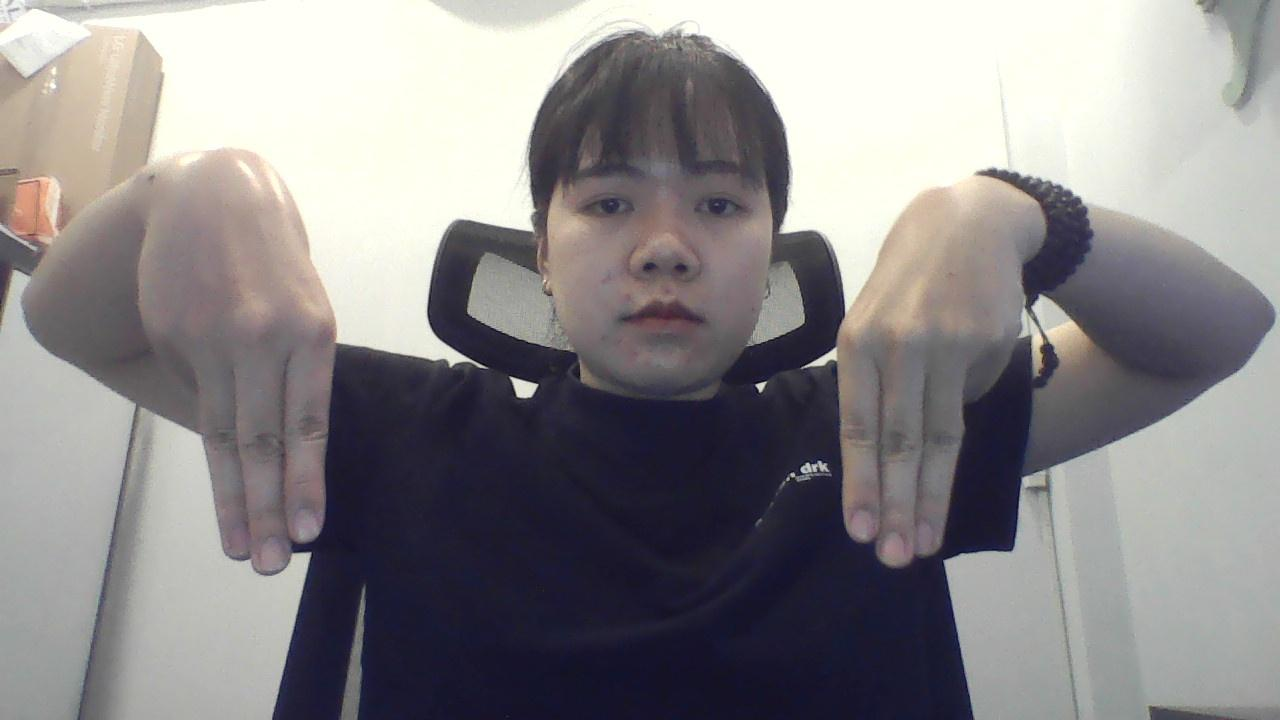M: (134, 136, 350, 584), (832, 167, 1026, 585)
